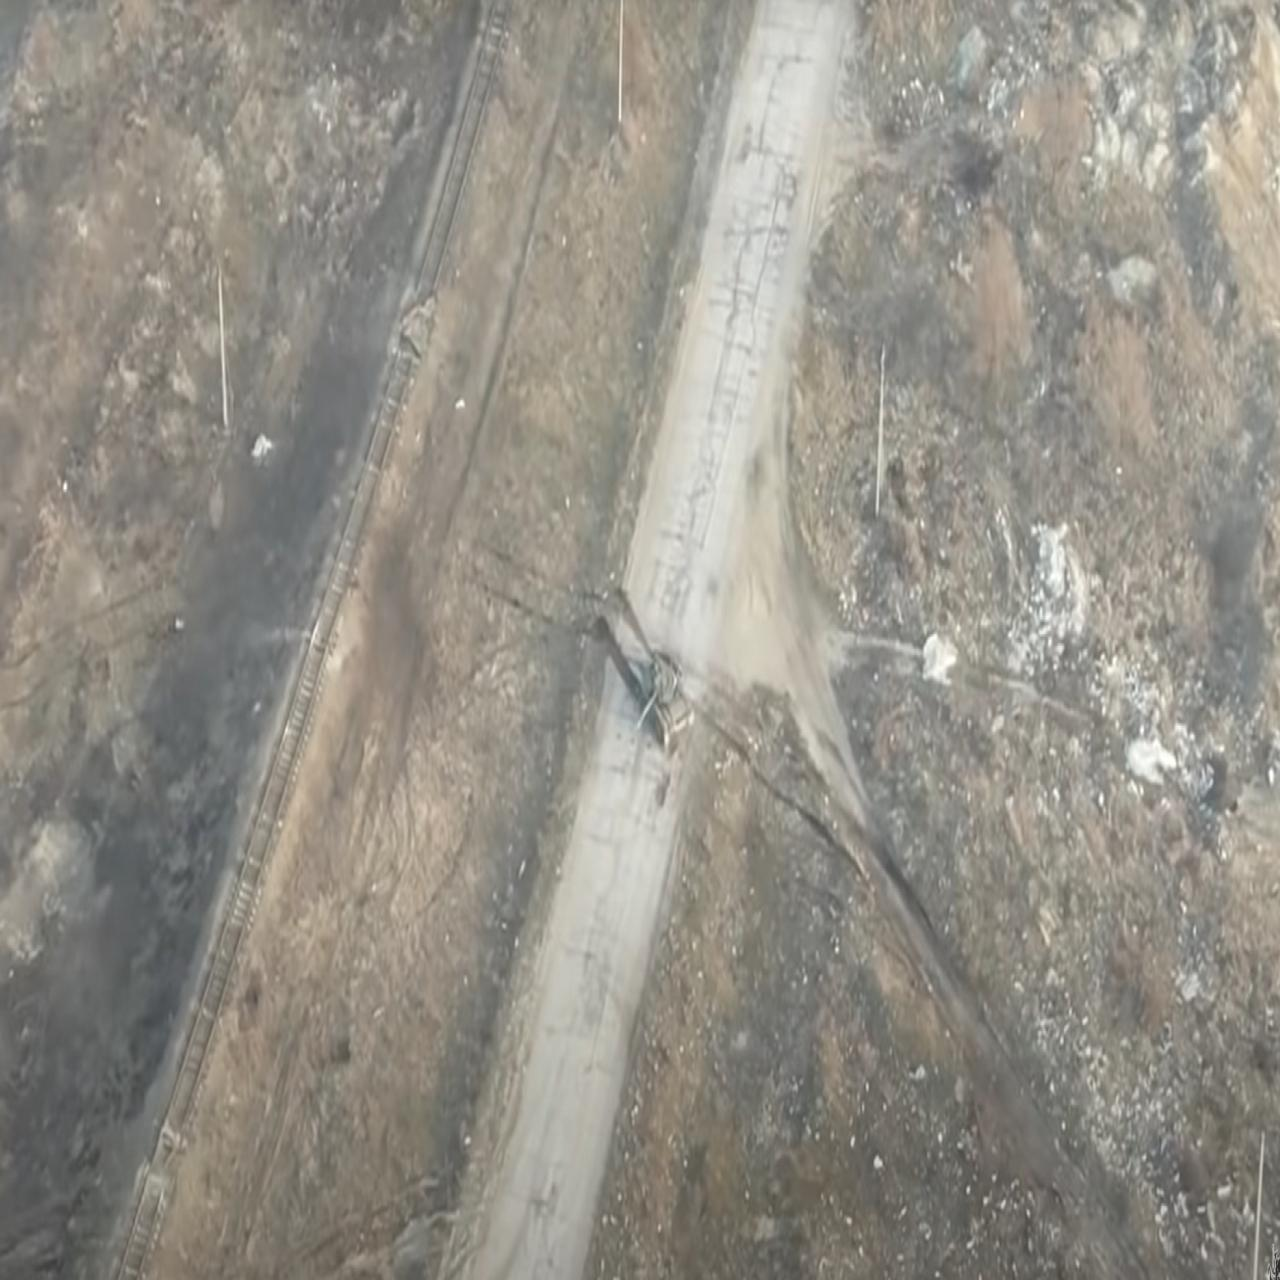MIL_Veh: (624, 645, 700, 750)
